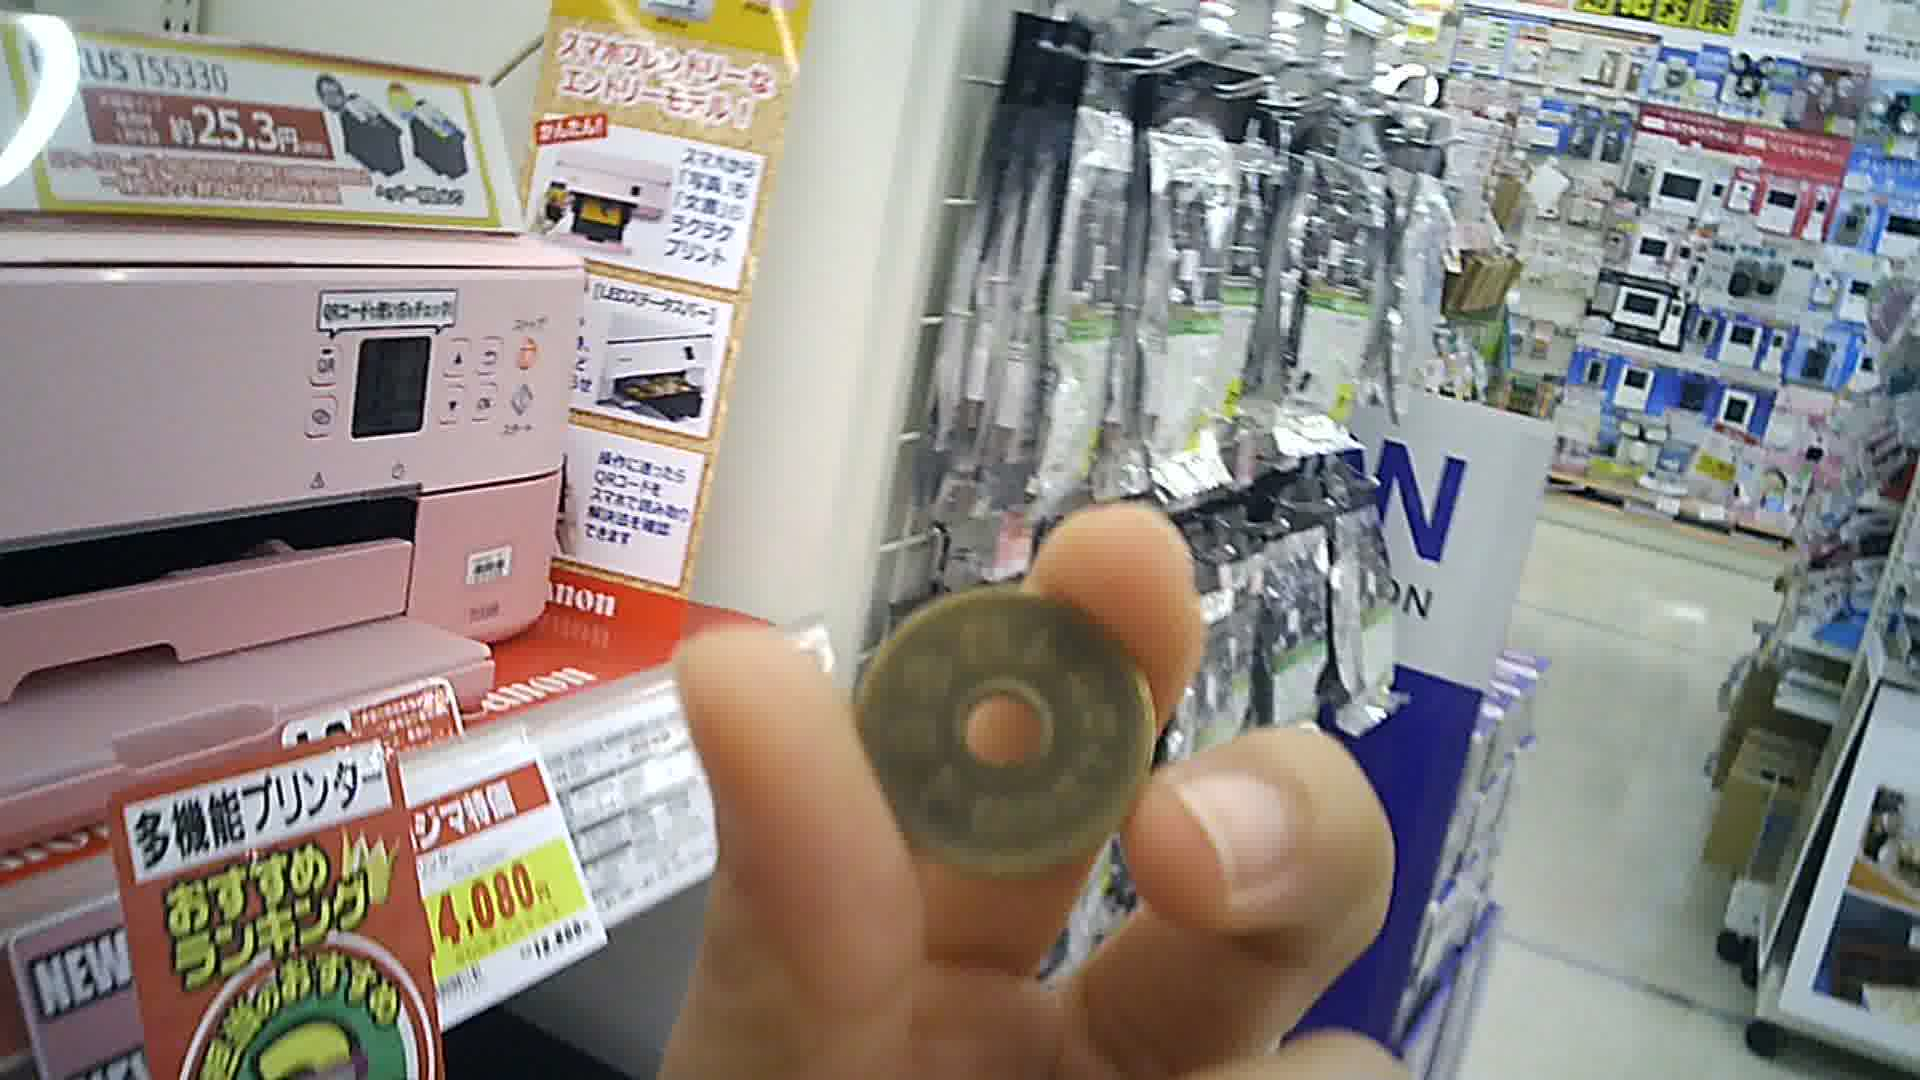5 Yen: (847, 582, 1160, 874)
